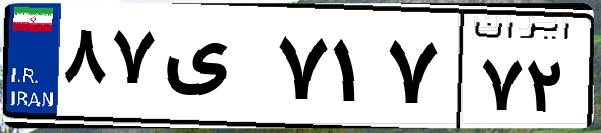1: (330, 28, 385, 110)
2: (525, 38, 570, 115)
7: (270, 28, 330, 110), (385, 28, 445, 110), (475, 38, 525, 113), (110, 28, 158, 98)
8: (57, 26, 110, 100)
ی: (158, 20, 270, 120)
